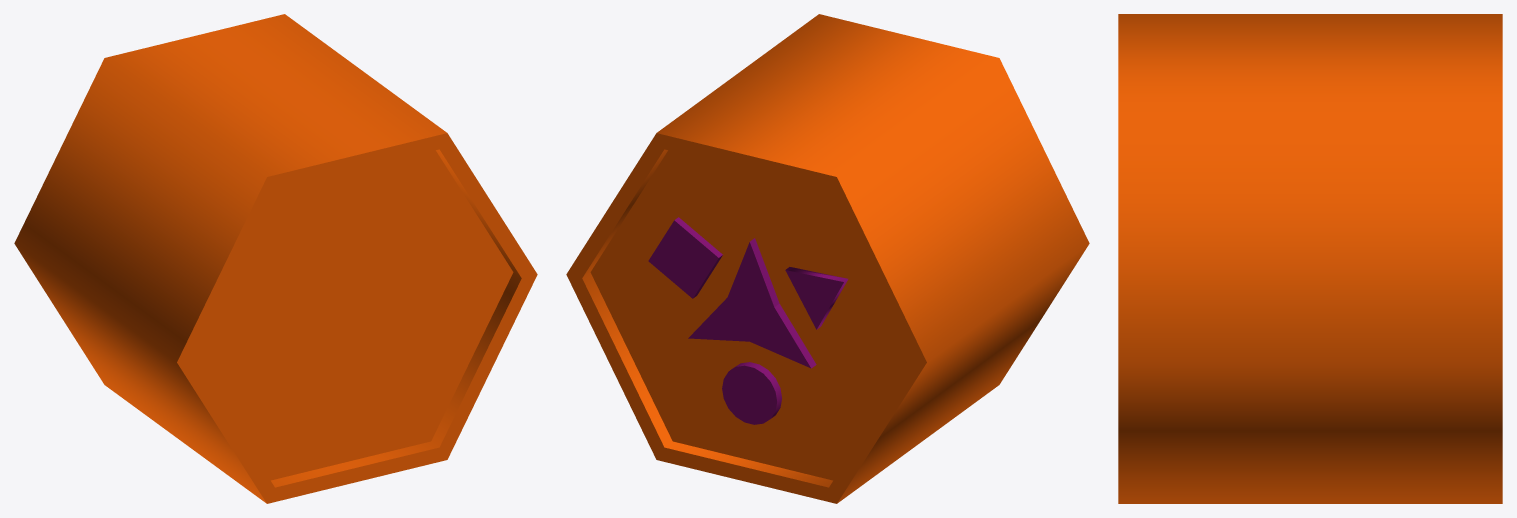
The model's file is Hex_Player3.FBX.
3 views of the same model, side by side, from view 1: azimuth 30°, elevation 25°; view 2: azimuth 150°, elevation 25°; view 3: azimuth 270°, elevation 25° (orthographic). The views are drawn at different scales.
Parts seen in each view (by area): view 1: Cylinder012; view 2: Cylinder012; view 3: Cylinder012.
Part boxes in pixels (box(x1,y1,x2,y2)): Cylinder012: box(14, 14, 537, 503); Cylinder012: box(566, 14, 1089, 503); Cylinder012: box(1118, 14, 1502, 503).
Size of the model in its own units: 25.51 by 19.92 by 22.09.
